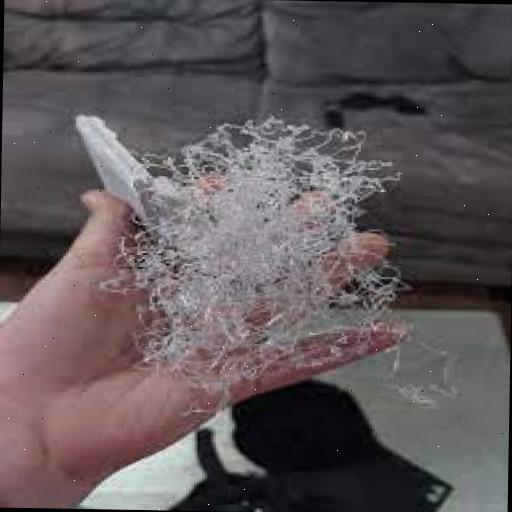spaghetti: (138, 122, 400, 408)
